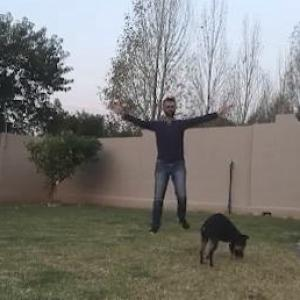takeoff: (115, 94, 244, 241)
